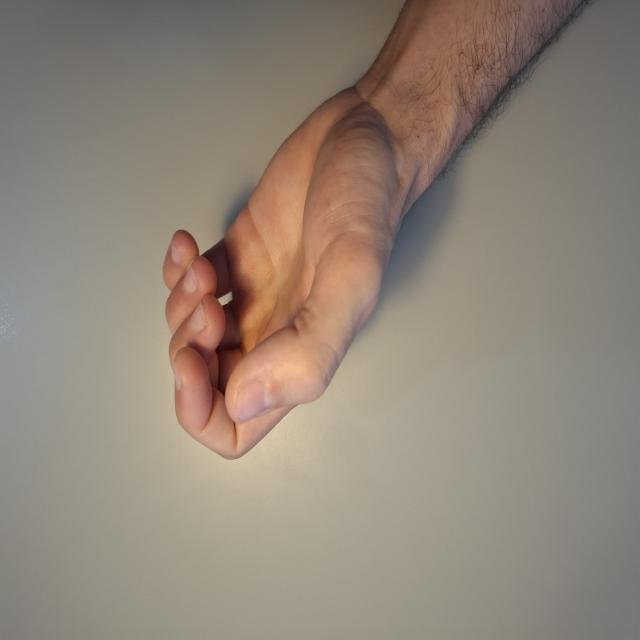glove_off: (160, 63, 424, 464)
